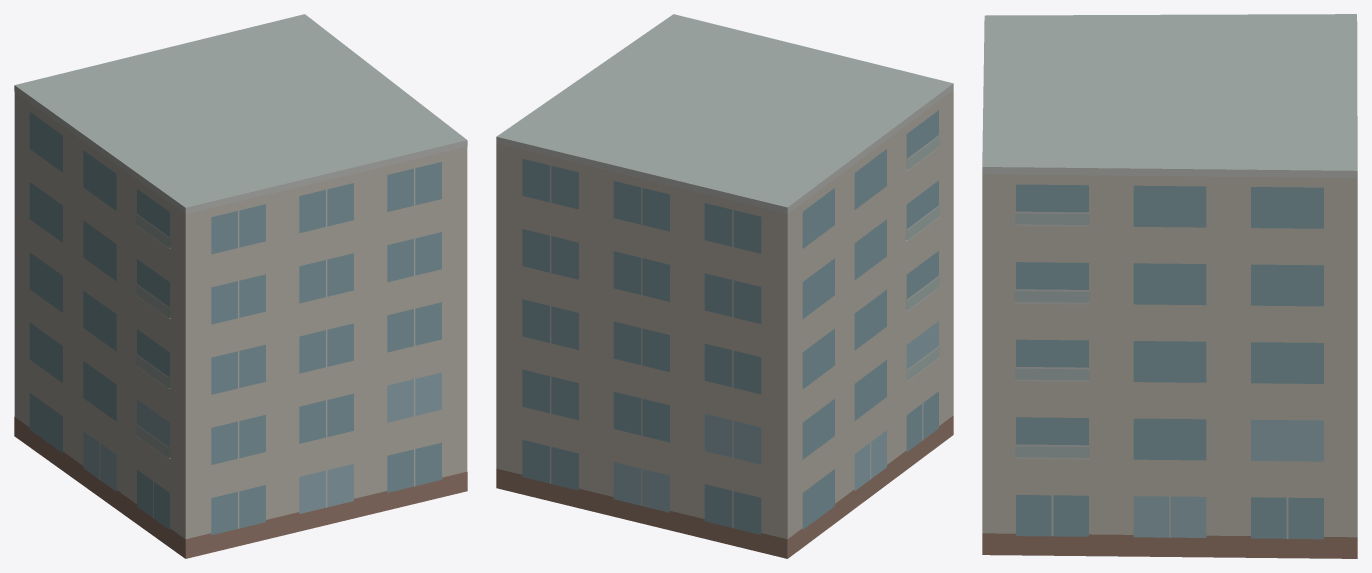
Rendered from survey-upis-32739594.glb.
The picture shows the model from 3 angles, left to right: view 1: azimuth 30°, elevation 25°; view 2: azimuth 150°, elevation 25°; view 3: azimuth 270°, elevation 25°; orthographic projection. The views are drawn at different scales.
Parts seen in each view (by area): view 1: survey-upis-32739594.tmp; view 2: survey-upis-32739594.tmp; view 3: survey-upis-32739594.tmp.
Boxes of the visible parts, x1=… form: survey-upis-32739594.tmp: x1=14, y1=14, x2=467, y2=558; survey-upis-32739594.tmp: x1=496, y1=14, x2=953, y2=558; survey-upis-32739594.tmp: x1=982, y1=14, x2=1357, y2=558.
Size of the model in its own units: 11.45 by 13.2 by 11.59.
